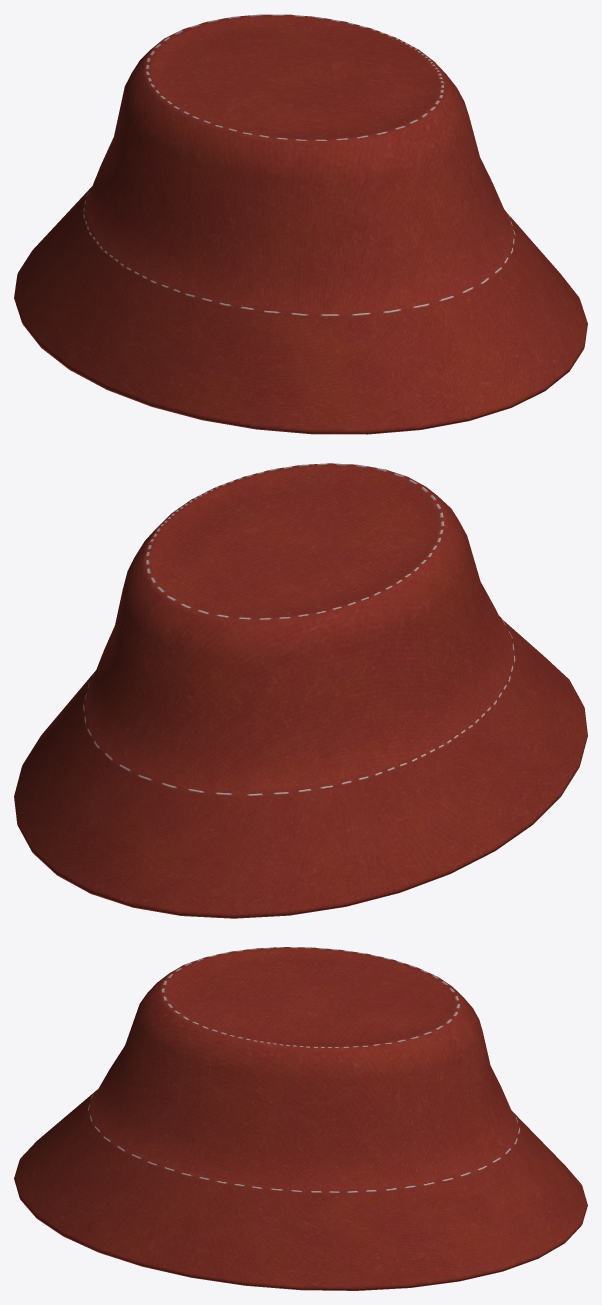
File: bucket_hat.glb
3 renders of one model, top to bottom at view 1: azimuth 30°, elevation 25°; view 2: azimuth 150°, elevation 25°; view 3: azimuth 270°, elevation 25°, orthographic. The views are drawn at different scales.
Parts seen in each view (by area): view 1: Bucket_Hat001; view 2: Bucket_Hat001; view 3: Bucket_Hat001.
Part boxes in pixels (bbox=[...]): Bucket_Hat001: bbox=[14, 14, 587, 434]; Bucket_Hat001: bbox=[14, 463, 587, 918]; Bucket_Hat001: bbox=[14, 947, 587, 1290].
Size of the model in its own units: 24.09 by 12.68 by 30.34.
Materials: 1 (1 with a texture image).
